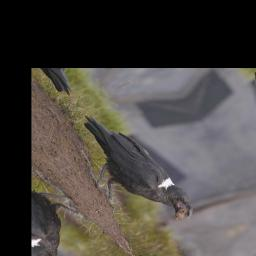Crow: (49, 99, 204, 243)
